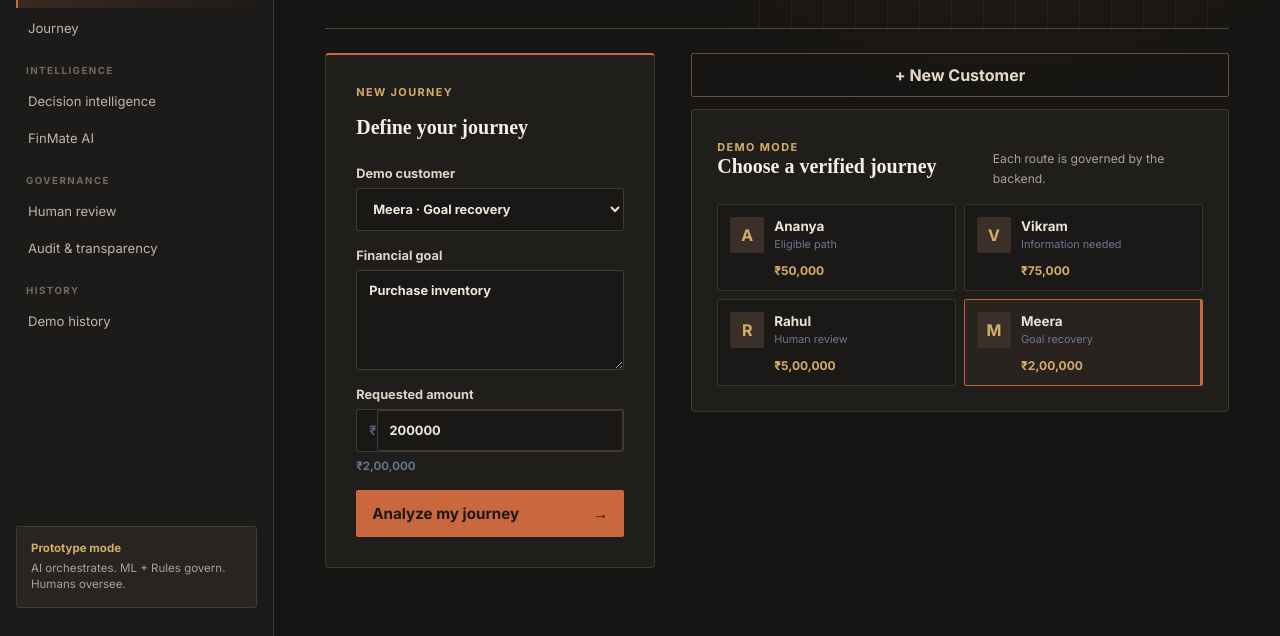
it: FinMate journey UI › confirms simulated missing fields and renders the returned reassessment
(page scrolled)
Step 1. Click the button "Analyze my journey →" → [490, 513], box [356,490,624,537]
(page scrolled)
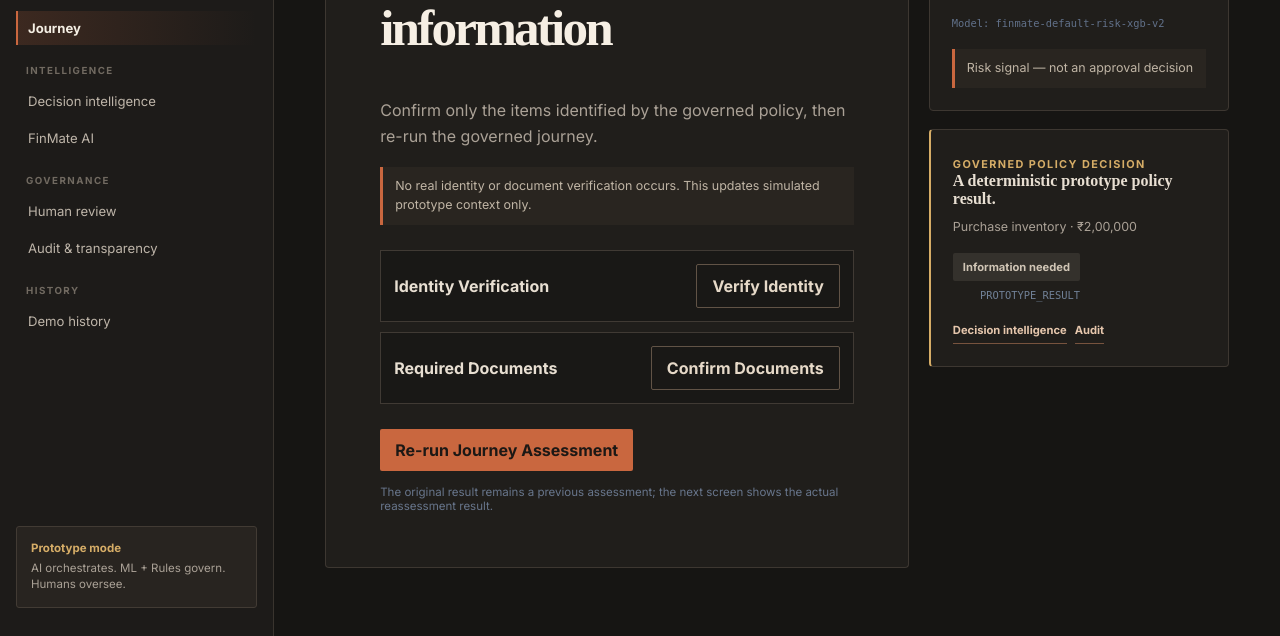
Now the button "Verify Identity" is shown
Now the button "Re-run Journey Assessment" is disabled, box [380,429,633,471]
Step 2. Click the button "Verify Identity" → [768, 286], box [696,264,840,308]
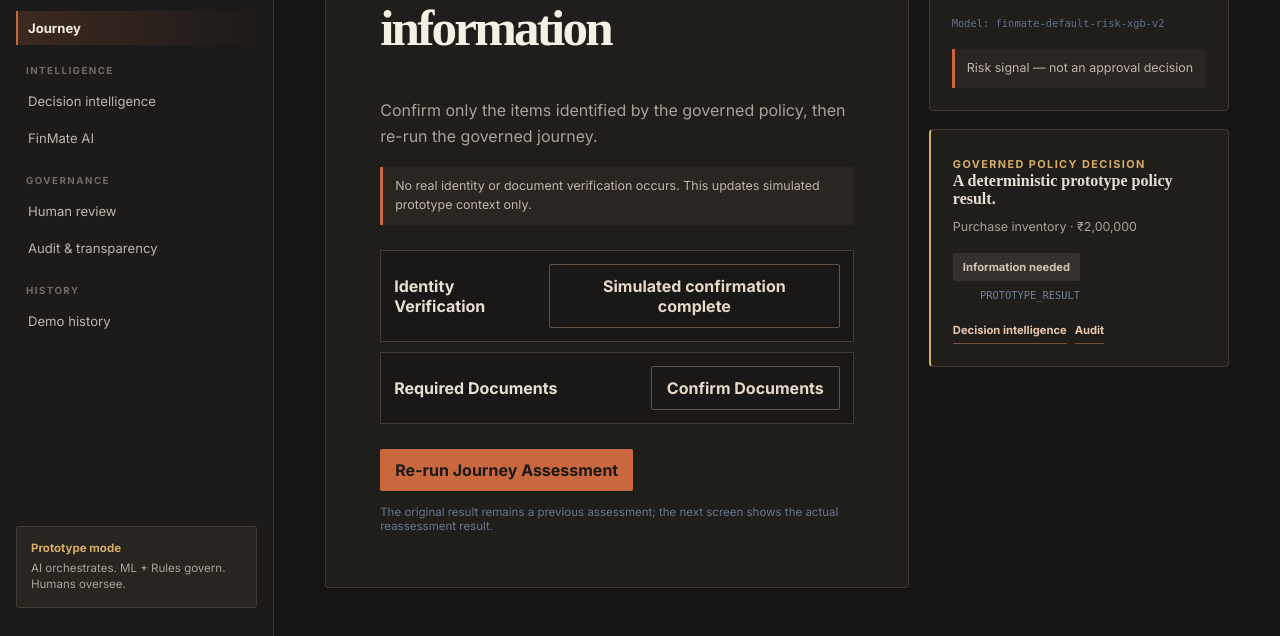
Step 3. Click the button "Confirm Documents" → [745, 388], box [651,366,840,410]
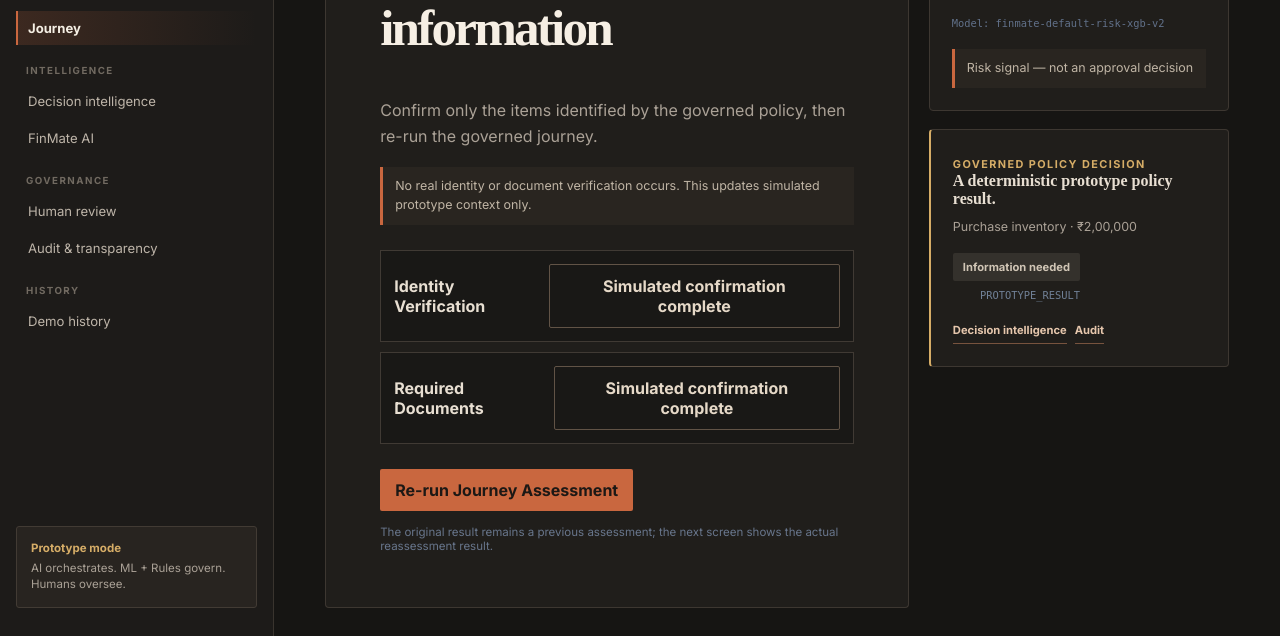
Now the button "Re-run Journey Assessment" is enabled
Step 4. Click the button "Re-run Journey Assessment" → [507, 490], box [380,469,633,511]
(page scrolled)
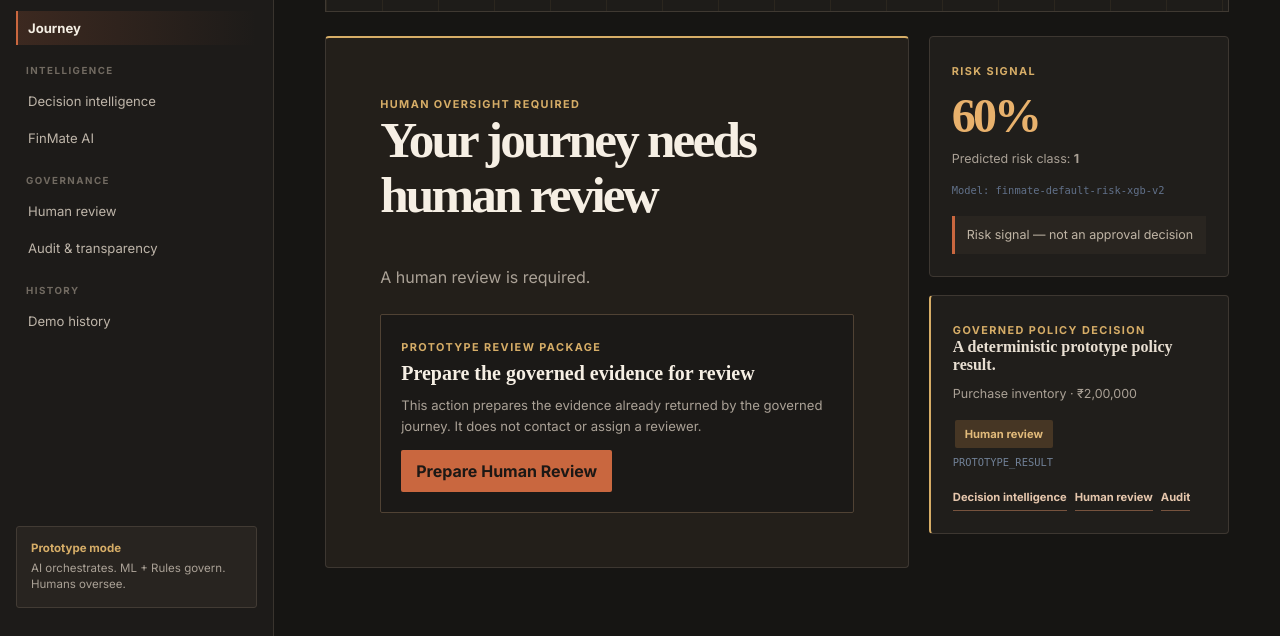
Now the heading "Your journey needs human review" is shown, box [380,111,755,223]
